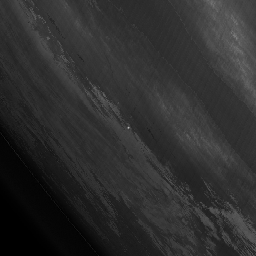Target: (126, 126, 131, 130)
